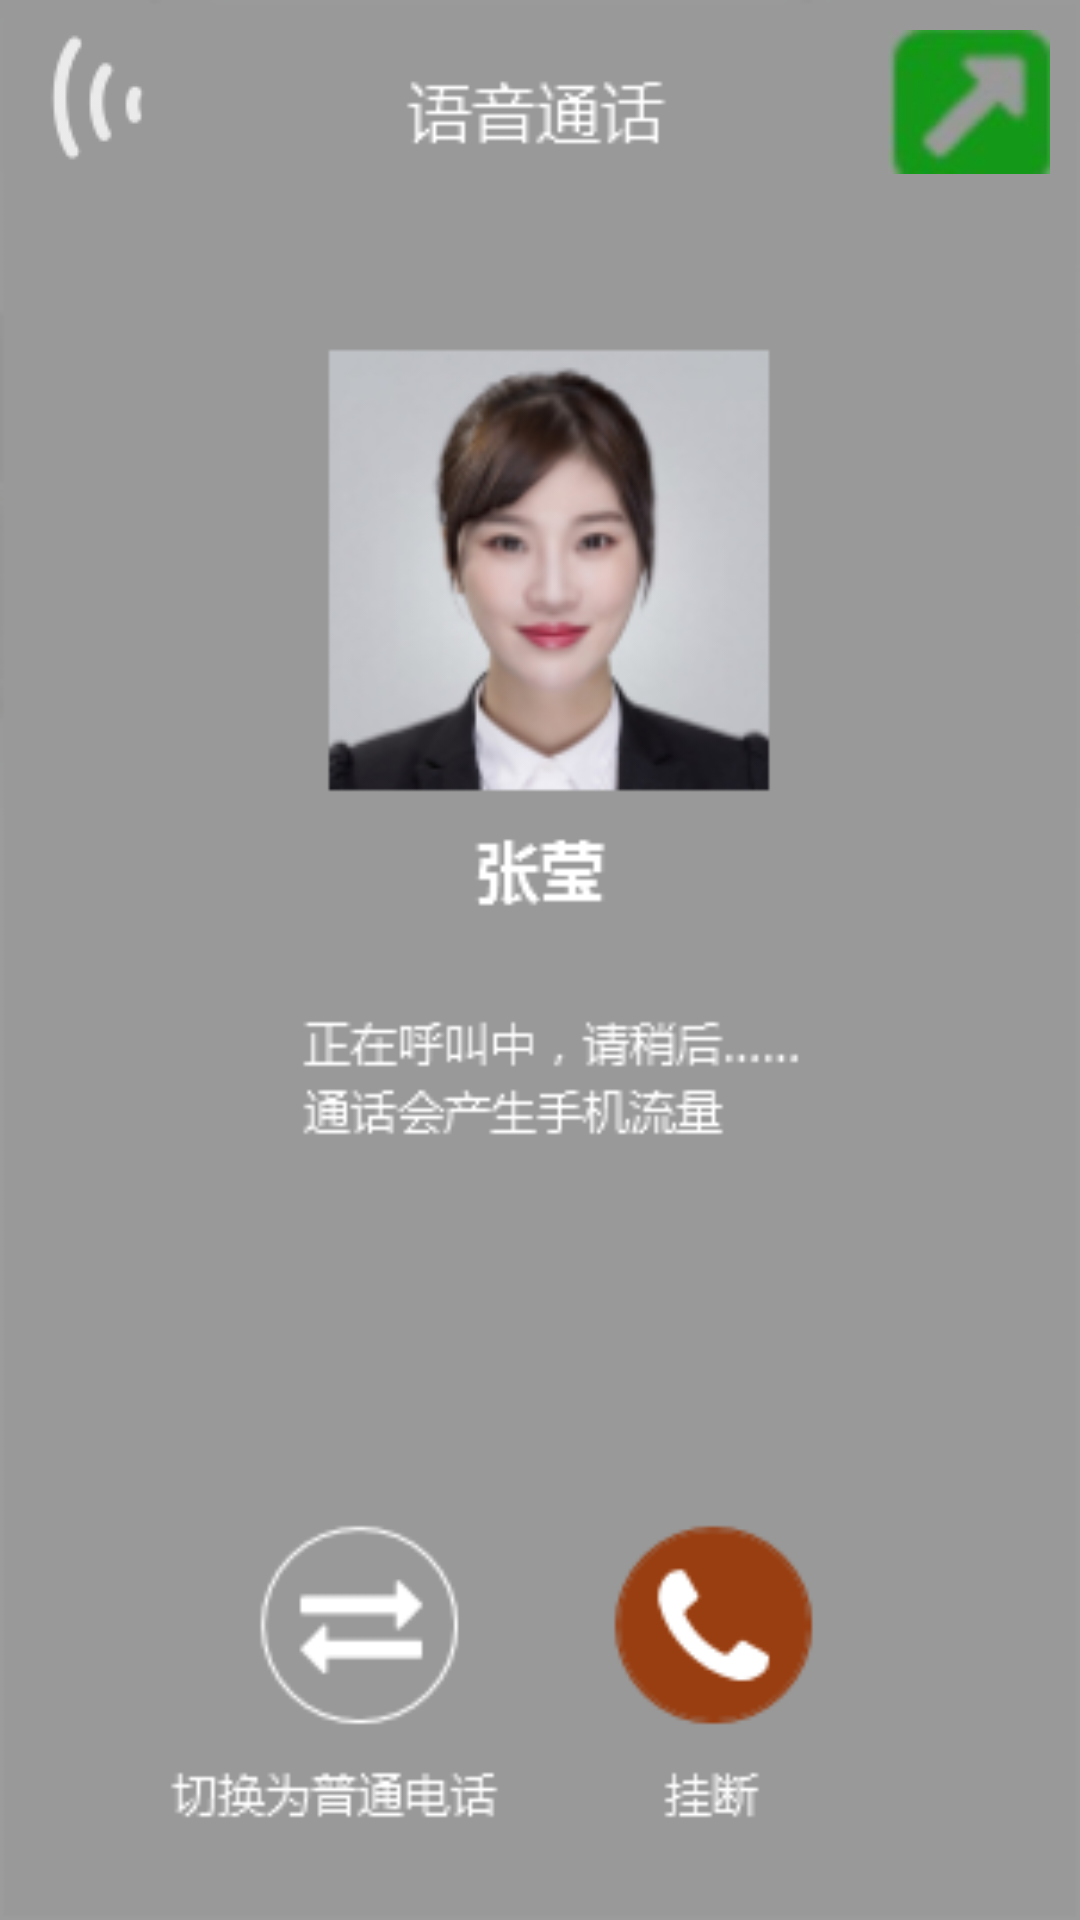

Screen size 1080px x 1920px. Icon name, then its center in pixels as [x,y]:
chatui voice right: [97,97]
